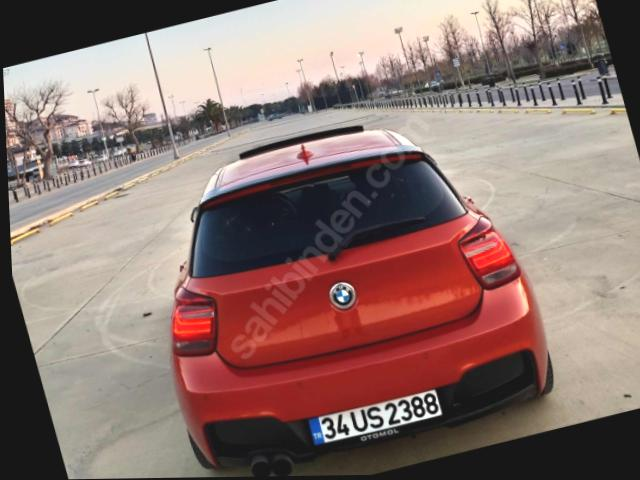plaka: (309, 389, 441, 444)
